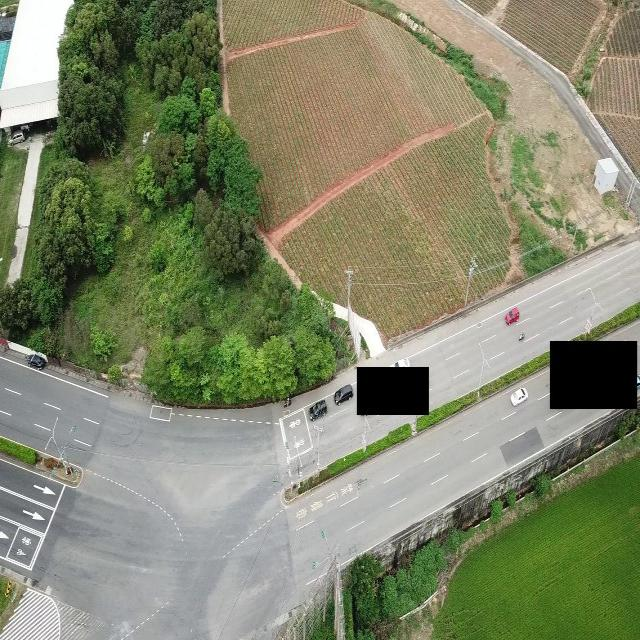bike: (520, 331, 526, 344)
car: (333, 383, 353, 405), (308, 398, 327, 421), (508, 386, 528, 406), (27, 351, 48, 370), (505, 306, 519, 325), (10, 131, 24, 144), (394, 358, 410, 367)
